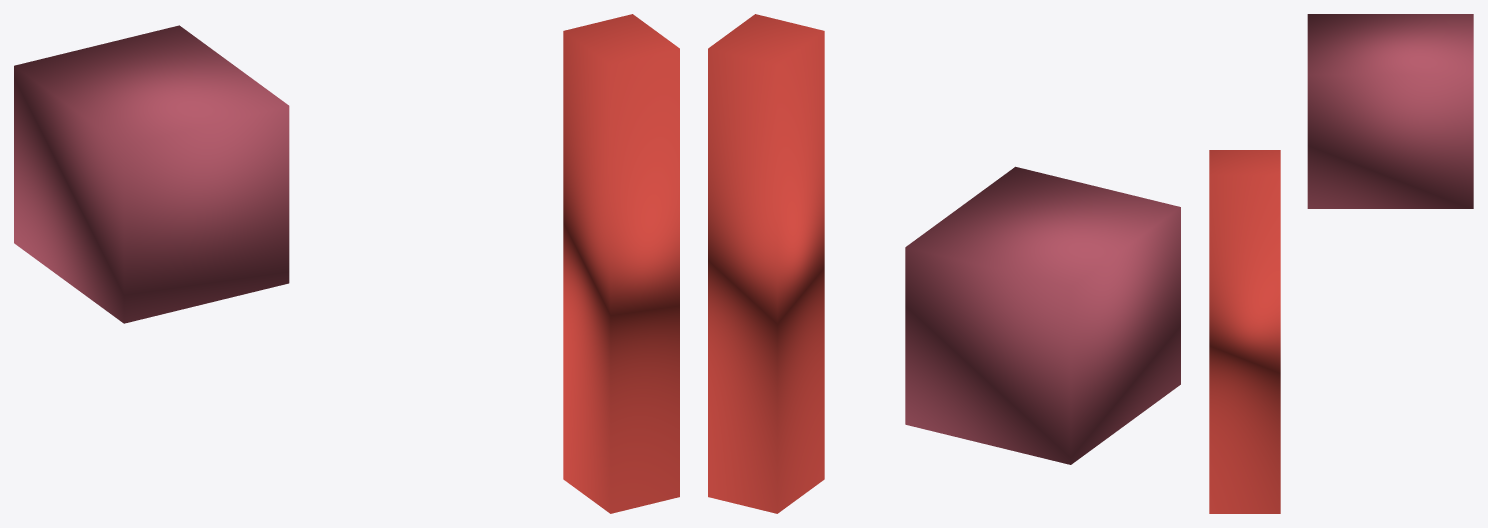
File: legacy-model.glb
The picture shows the model from 3 angles, left to right: view 1: azimuth 30°, elevation 25°; view 2: azimuth 150°, elevation 25°; view 3: azimuth 270°, elevation 25°; orthographic projection. The views are drawn at different scales.
Visible parts, largest first — view 1: total:liver, total:aorta; view 2: total:liver, total:aorta; view 3: total:liver, total:aorta.
Part boxes in pixels (box(x1,y1,x2,y2)): total:liver: box(14, 25, 289, 323); total:aorta: box(563, 14, 679, 513); total:liver: box(905, 166, 1180, 464); total:aorta: box(708, 14, 824, 513); total:liver: box(1307, 14, 1473, 208); total:aorta: box(1209, 150, 1280, 513).
Bounding box in the file's own units: 0.1833 × 0.1601 × 0.1133.
